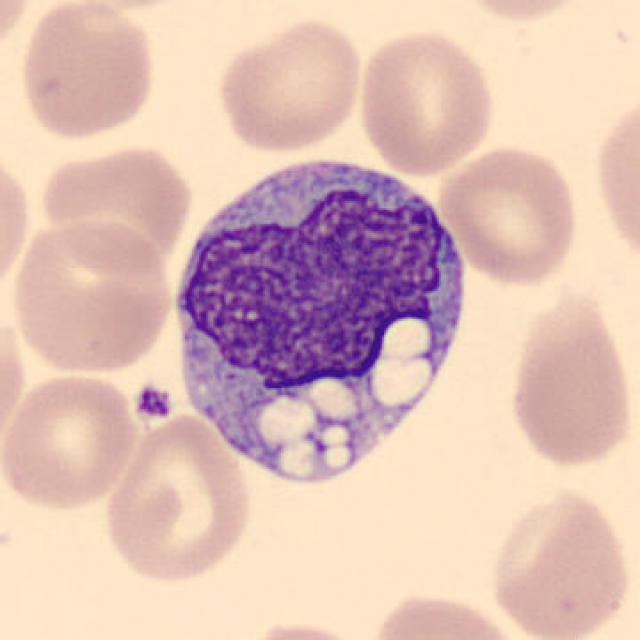Monocyte: (160, 141, 478, 492)
Platelets: (130, 381, 176, 423)
RBC: (7, 215, 176, 377), (100, 413, 256, 587), (503, 284, 637, 472), (484, 485, 634, 640), (36, 139, 196, 277), (212, 12, 366, 155), (354, 25, 499, 176), (436, 143, 582, 289), (14, 2, 160, 143), (0, 369, 142, 513), (590, 85, 638, 273), (364, 587, 528, 640), (0, 146, 34, 302), (0, 304, 28, 458), (444, 0, 594, 25), (234, 615, 380, 640), (0, 1, 37, 65), (52, 0, 206, 14)
